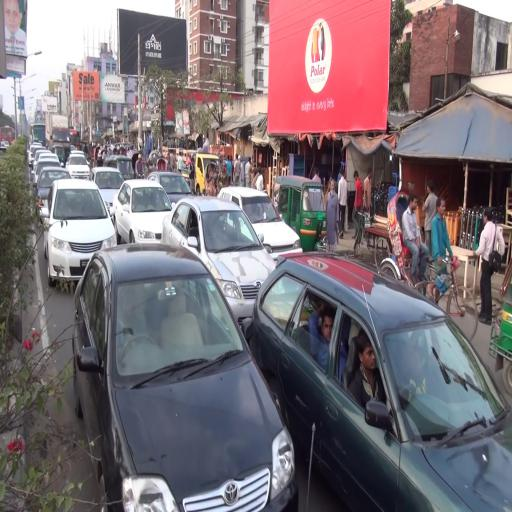bus: (30, 123, 49, 154), (1, 124, 16, 146), (70, 127, 83, 152)
car: (240, 252, 512, 512), (72, 241, 301, 512), (160, 193, 286, 320), (41, 175, 121, 290), (220, 187, 302, 254), (115, 173, 176, 250), (37, 166, 74, 219), (65, 152, 95, 185)
pickup: (175, 146, 220, 197), (44, 113, 72, 154)
rickshaw: (379, 193, 462, 296), (203, 158, 229, 203), (131, 152, 146, 183), (154, 156, 174, 174)
three wheelers CNG: (484, 228, 512, 403), (273, 172, 331, 255), (104, 155, 136, 179), (54, 143, 67, 163)
van: (350, 208, 396, 270)
